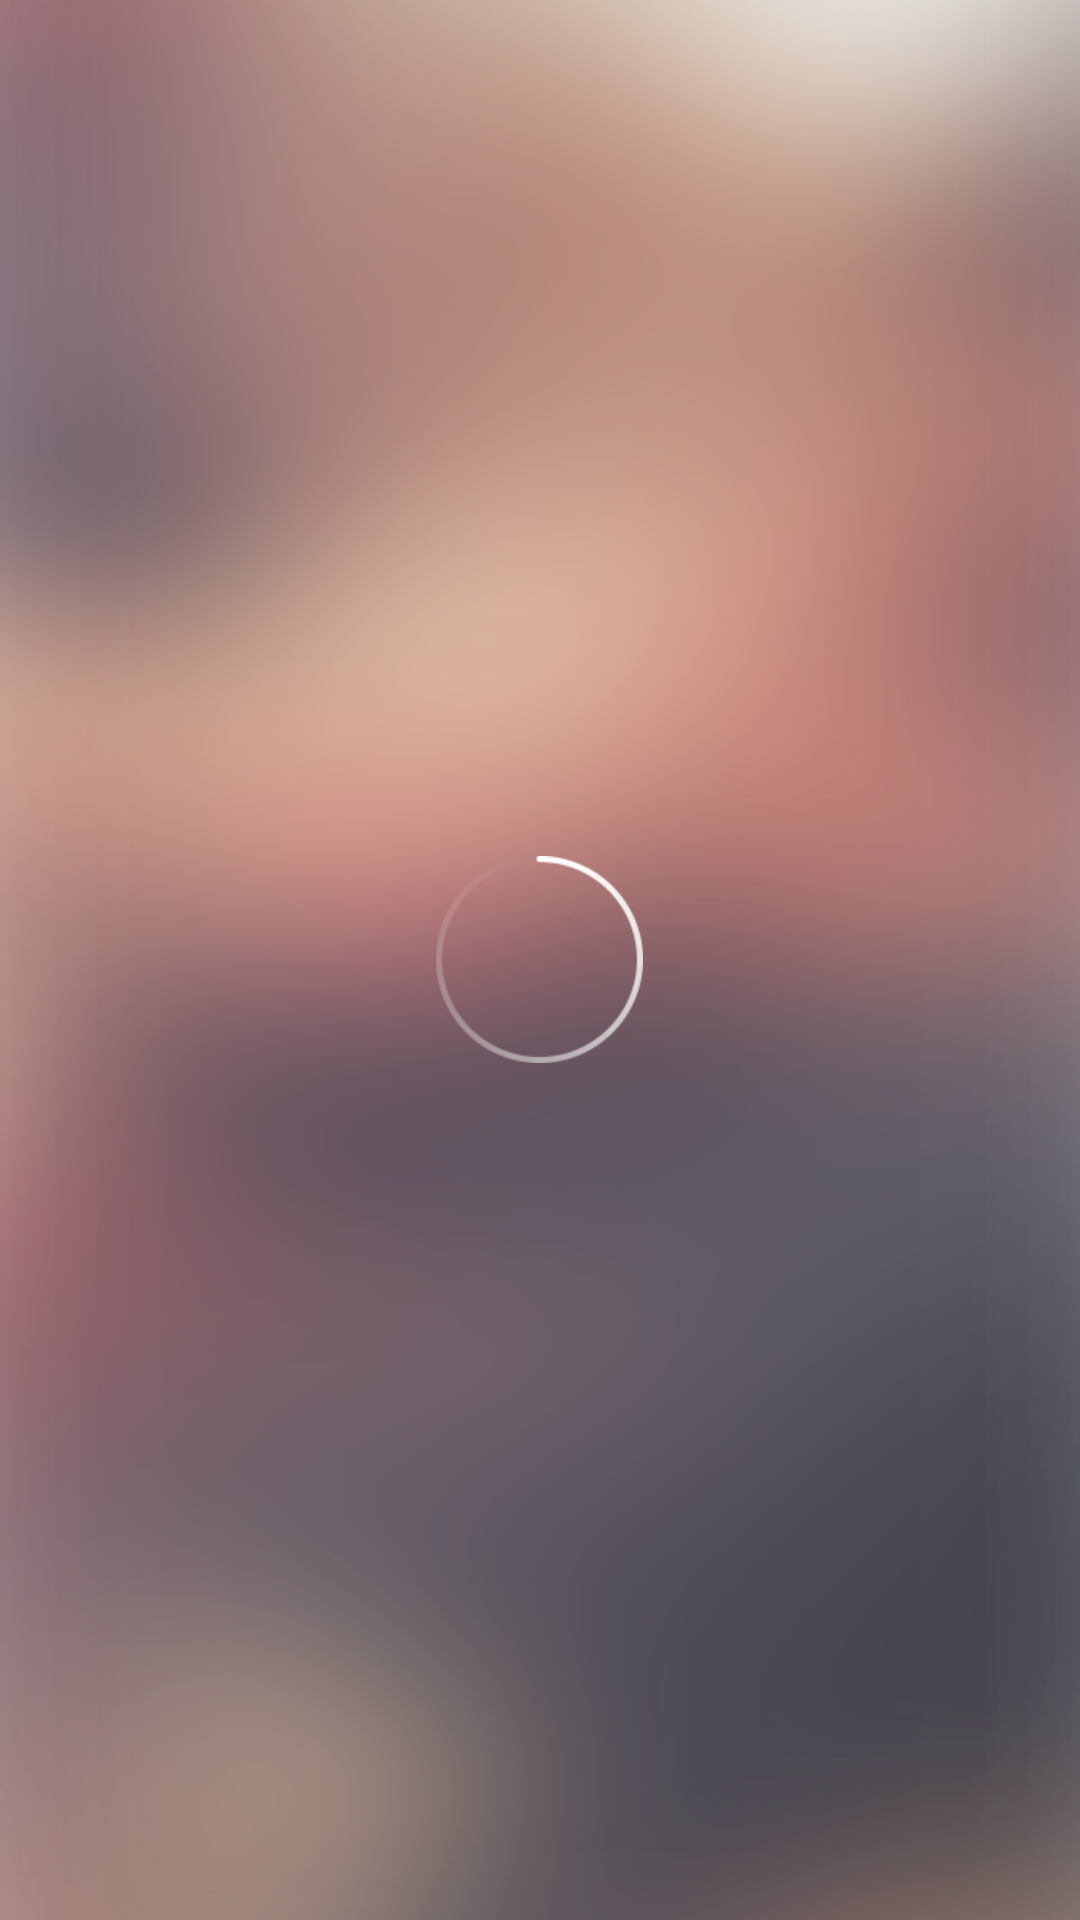

Named icons in this screenshot (1080×1920) and their centers, (x=x, y=y):
anim video loading: (x=539, y=959)
